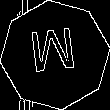M_S: (29, 27, 81, 83)
